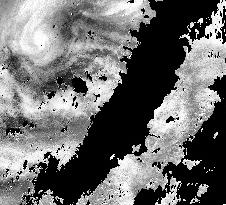CE: (16, 17, 67, 67)
